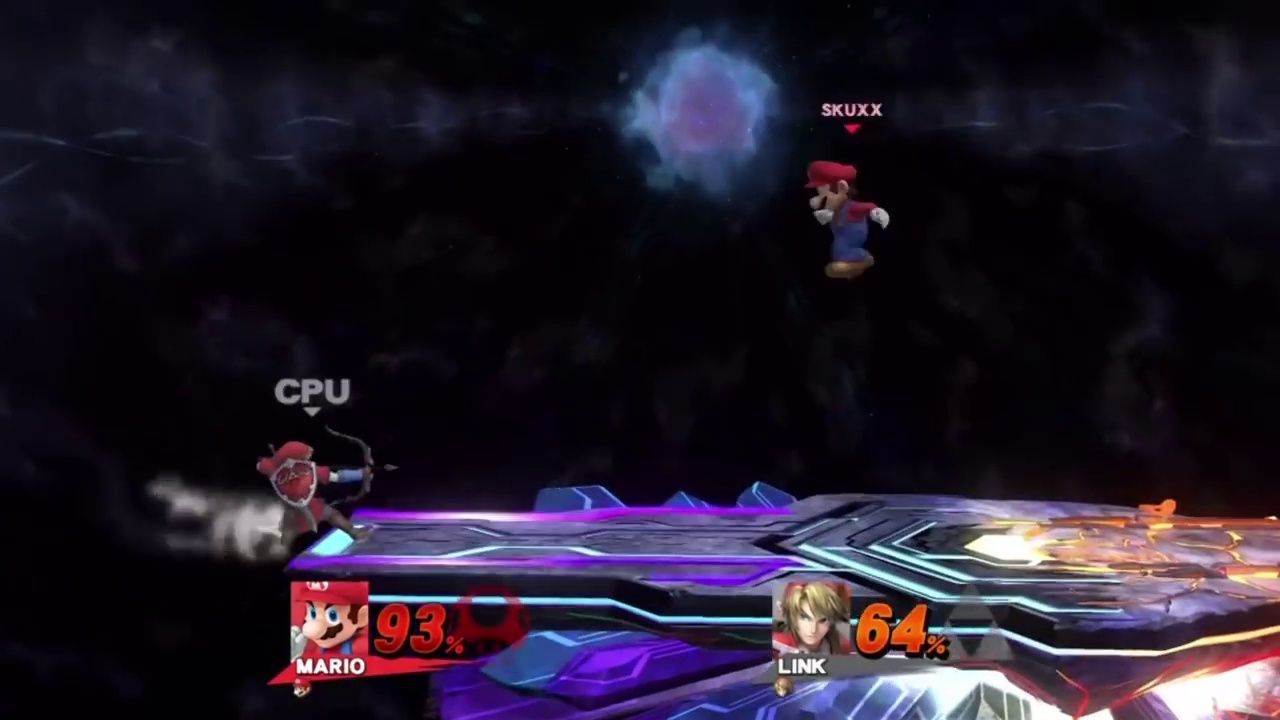Mario: (799, 159, 894, 281)
